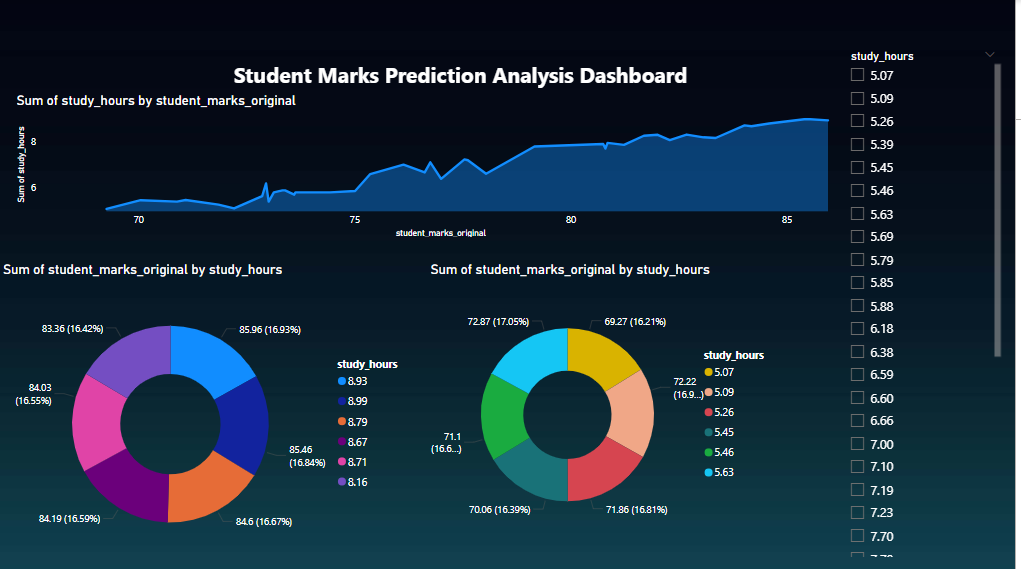

What the dashboard file says about the page in this screenshot:
{"tool":"powerbi","page":{"name":"Page 1","canvas":[1280,720],"ordinal":0},"visuals":[{"type":"donutChart","fields":{"Y":["Sum(student_marks_predicted.student_marks_original)"],"Category":["student_marks_predicted.study_hours"]},"box":[0,330.7,524.2,389.7],"z":0},{"type":"pieChart","fields":{"Y":["Sum(student_marks_predicted.student_marks_original)"],"Series":["student_marks_predicted.study_hours"]},"box":[537.9,330.7,447.3,366.4],"z":1},{"type":"stackedAreaChart","fields":{"Category":["student_marks_predicted.student_marks_original"],"Y":["Sum(student_marks_predicted.study_hours)"]},"box":[16.5,118,1044.3,188],"z":2},{"type":"slicer","fields":{"Values":["student_marks_predicted.study_hours"]},"box":[1060.7,59,207.2,649.1],"z":3},{"type":"textbox","box":[74.1,71.4,1015.4,93.3],"z":4}]}

Visuals, with their boxes in screenshot pixels (x1, y1, x2, y2), scaled from the page's 1280x720 canvas onto the 1021x569 screenshot:
donutChart - Sum(student_marks_predicted.student_marks_original) x student_marks_predicted.study_hours: BBox(0, 261, 418, 568)
pieChart - Sum(student_marks_predicted.student_marks_original) x student_marks_predicted.study_hours: BBox(429, 261, 786, 551)
stackedAreaChart - student_marks_predicted.student_marks_original x Sum(student_marks_predicted.study_hours): BBox(13, 93, 846, 242)
slicer - student_marks_predicted.study_hours: BBox(846, 47, 1011, 560)
textbox: BBox(59, 56, 869, 130)
